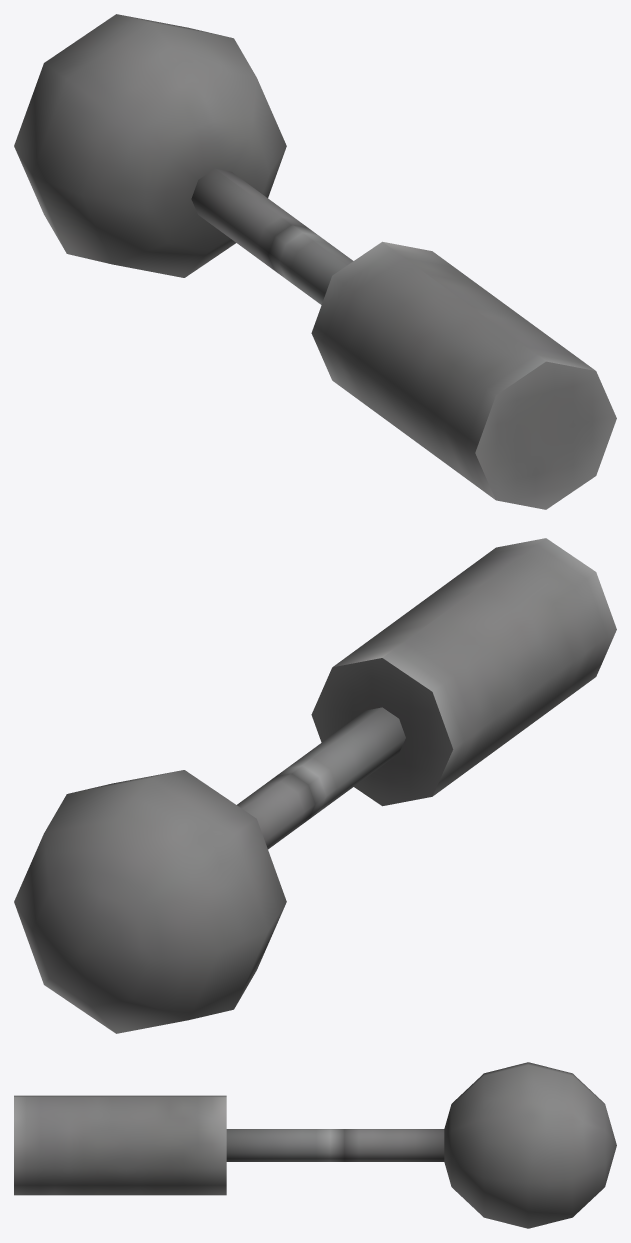
The model's file is 1mv_sensor_ion_trap_srf_1.obj.
3 renders of one model, top to bottom at view 1: azimuth 30°, elevation 25°; view 2: azimuth 150°, elevation 25°; view 3: azimuth 270°, elevation 25°, orthographic. The views are drawn at different scales.
Visible parts, largest first — view 1: mesh1; view 2: mesh1; view 3: mesh1.
Boxes of the visible parts, x1=… form: mesh1: x1=14, y1=14, x2=616, y2=509; mesh1: x1=14, y1=538, x2=616, y2=1033; mesh1: x1=14, y1=1062, x2=616, y2=1228.
Bounding box in the file's own units: 0.0625 × 0.0625 × 0.2125.
Materials: 1 (1 with a texture image).
